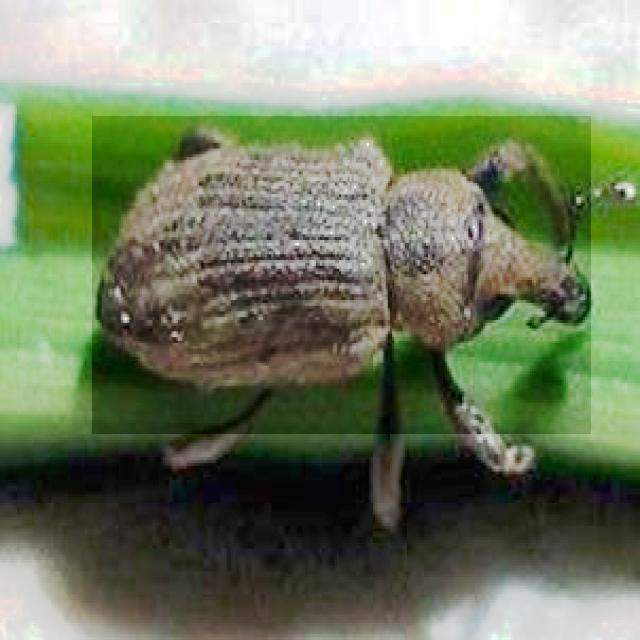rice-bug: (92, 116, 591, 434)
